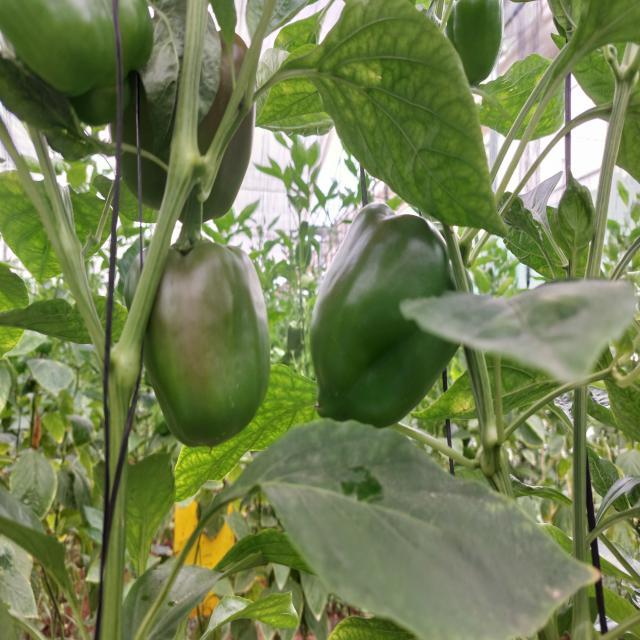Green--Not-ready-to-harvest: (0, 0, 258, 230), (313, 198, 477, 426), (127, 245, 272, 452), (446, 0, 500, 88)
